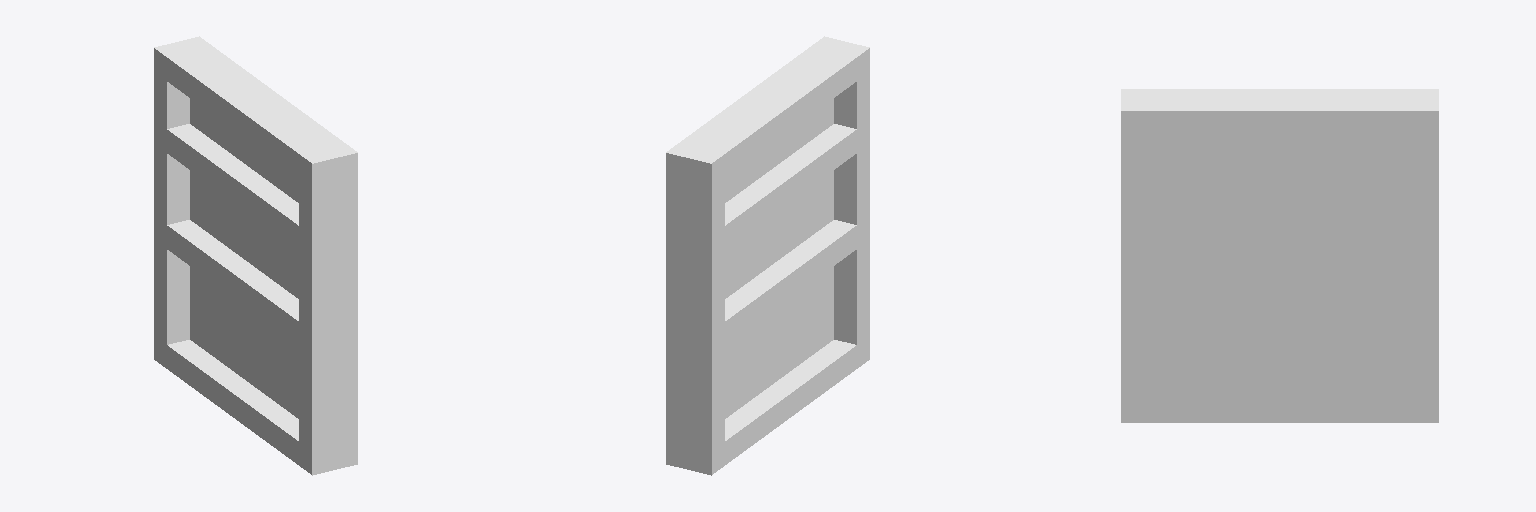
File: Red-house-2-Window4.obj
3 views of the same model, side by side, from view 1: azimuth 30°, elevation 25°; view 2: azimuth 150°, elevation 25°; view 3: azimuth 270°, elevation 25° (orthographic).
Visible parts, largest first — view 1: Window4; view 2: Window4; view 3: Window4.
Part boxes in pixels (bbox=[...]): Window4: bbox=[154, 36, 357, 475]; Window4: bbox=[666, 36, 869, 475]; Window4: bbox=[1121, 89, 1438, 422].
Bounding box in the file's own units: 0.2 × 1.3 × 1.2.